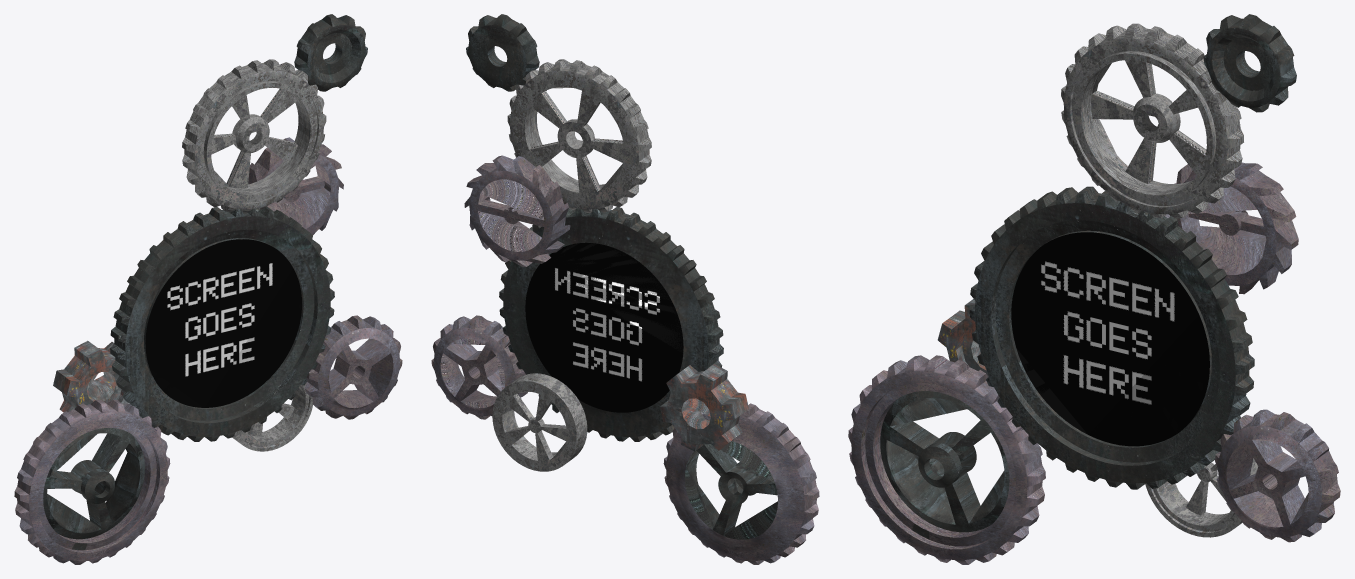
Rendered from wallClockFinal.fbx.
The picture shows the model from 3 angles, left to right: view 1: azimuth 30°, elevation 25°; view 2: azimuth 150°, elevation 25°; view 3: azimuth 330°, elevation 25°; orthographic projection. The views are drawn at different scales.
Parts seen in each view (by area): view 1: wallClock_centerFace, wallClock_centerGear, wallClock_gear4, wallClock_gear2, wallClock_gear3, wallClock_gear1, wallClock_soloGear3, wallClock_soloGear1, wallClock_soloGear2; view 2: wallClock_centerFace, wallClock_gear4, wallClock_centerGear, wallClock_gear2, wallClock_soloGear3, wallClock_gear3, wallClock_soloGear2, wallClock_soloGear1, wallClock_gear1; view 3: wallClock_centerFace, wallClock_centerGear, wallClock_gear4, wallClock_gear2, wallClock_gear3, wallClock_soloGear3, wallClock_gear1, wallClock_soloGear2, wallClock_soloGear1.
Boxes of the visible parts, x1,y1,x2,y2 form: wallClock_centerFace: [145, 239, 301, 407]; wallClock_centerGear: [110, 206, 334, 441]; wallClock_gear4: [14, 399, 170, 564]; wallClock_gear2: [182, 59, 326, 213]; wallClock_gear3: [304, 315, 402, 419]; wallClock_gear1: [294, 14, 367, 91]; wallClock_soloGear3: [248, 137, 343, 235]; wallClock_soloGear1: [53, 340, 128, 412]; wallClock_soloGear2: [232, 383, 312, 451]; wallClock_centerFace: [525, 242, 683, 412]; wallClock_gear4: [663, 403, 819, 564]; wallClock_centerGear: [499, 206, 723, 441]; wallClock_gear2: [507, 59, 651, 213]; wallClock_soloGear3: [464, 155, 570, 266]; wallClock_gear3: [431, 315, 527, 419]; wallClock_soloGear2: [492, 373, 587, 471]; wallClock_soloGear1: [660, 364, 748, 451]; wallClock_gear1: [466, 14, 539, 91]; wallClock_centerFace: [1011, 232, 1209, 446]; wallClock_centerGear: [969, 186, 1254, 489]; wallClock_gear4: [848, 355, 1045, 564]; wallClock_gear2: [1061, 23, 1243, 218]; wallClock_gear3: [1215, 409, 1340, 542]; wallClock_soloGear3: [1164, 162, 1298, 294]; wallClock_gear1: [1203, 14, 1296, 112]; wallClock_soloGear2: [1145, 458, 1260, 537]; wallClock_soloGear1: [937, 299, 988, 376].
Bounding box in the file's own units: 13.03 × 15.83 × 2.02.
5 materials, 5 textured.
